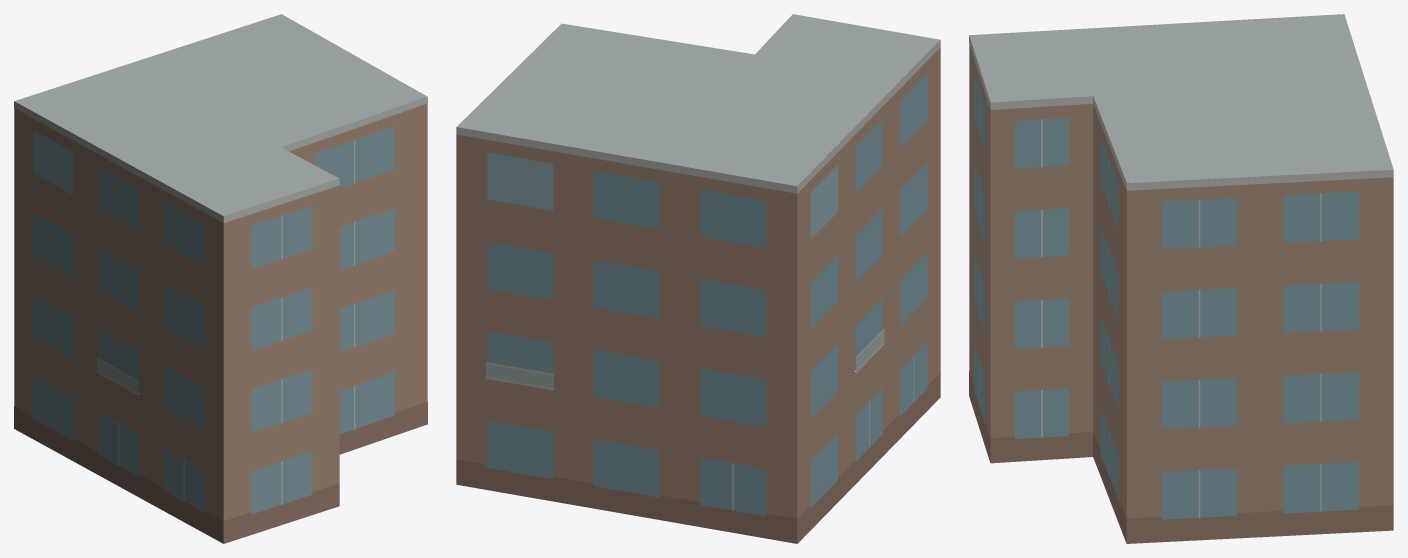
Rendered from survey-upis-32696902.glb.
3 views of the same model, side by side, from view 1: azimuth 30°, elevation 25°; view 2: azimuth 150°, elevation 25°; view 3: azimuth 270°, elevation 25° (orthographic). The views are drawn at different scales.
Visible parts, largest first — view 1: survey-upis-32696902.tmp; view 2: survey-upis-32696902.tmp; view 3: survey-upis-32696902.tmp.
Boxes of the visible parts, x1=… form: survey-upis-32696902.tmp: x1=14, y1=14, x2=427, y2=543; survey-upis-32696902.tmp: x1=456, y1=14, x2=940, y2=543; survey-upis-32696902.tmp: x1=969, y1=14, x2=1393, y2=543.
Size of the model in its own units: 11.78 by 11.7 by 12.49.
